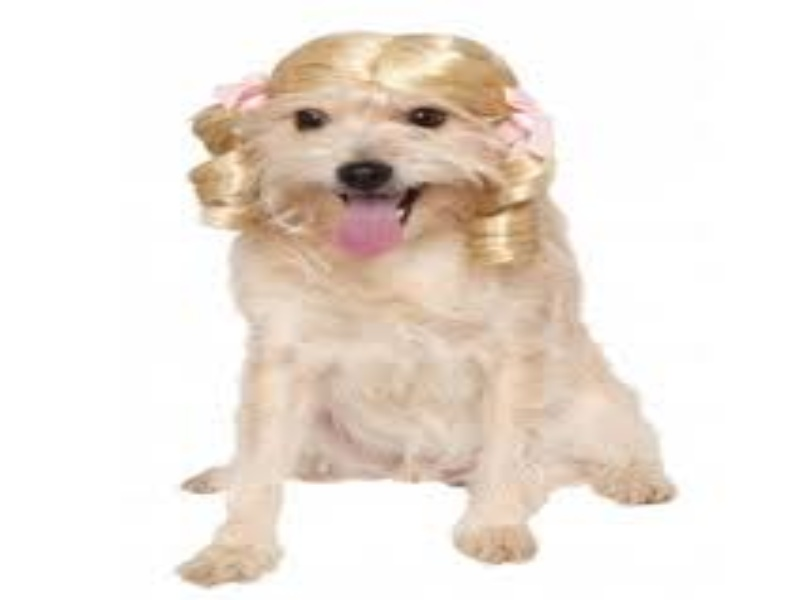dog: (174, 20, 684, 591)
